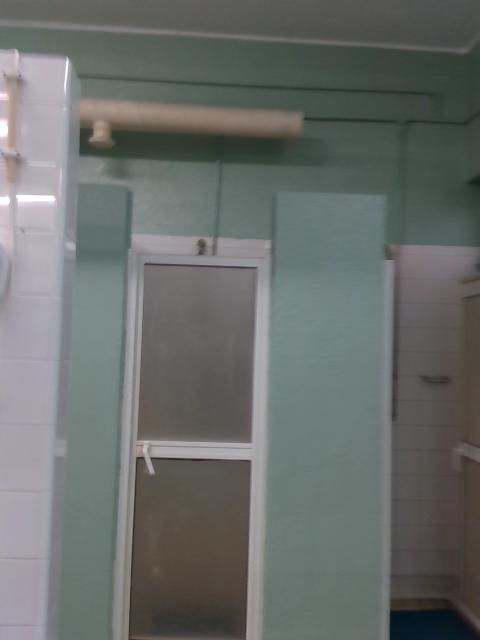door: (111, 250, 279, 636), (449, 281, 480, 628)
